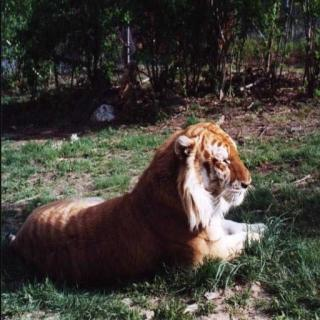Tiger: (21, 101, 287, 295)
